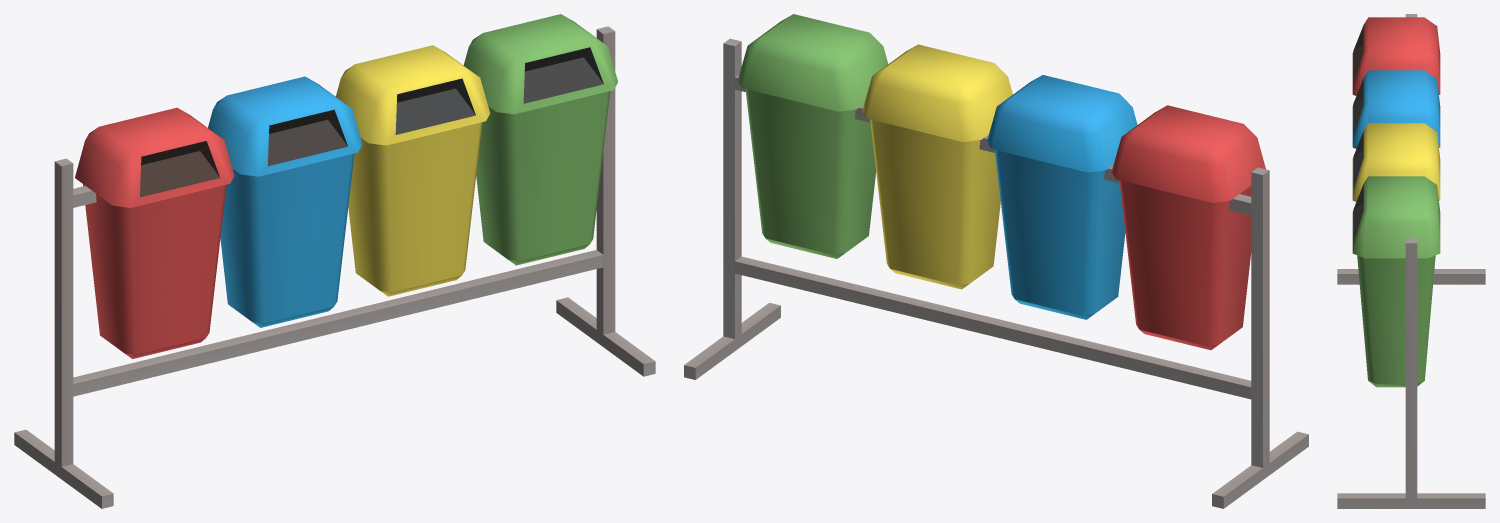
File: trash_001.glb
3 renders of one model, left to right at view 1: azimuth 30°, elevation 25°; view 2: azimuth 150°, elevation 25°; view 3: azimuth 270°, elevation 25°, orthographic. The views are drawn at different scales.
Parts seen in each view (by area): view 1: trash_001; view 2: trash_001; view 3: trash_001.
Part boxes in pixels (x1,y1,x2,y2): trash_001: (14,14,655,508); trash_001: (684,14,1308,508); trash_001: (1337,14,1485,508).
Bounding box in the file's own units: 2.16 × 1.24 × 0.5923.
1 material, 1 textured.
